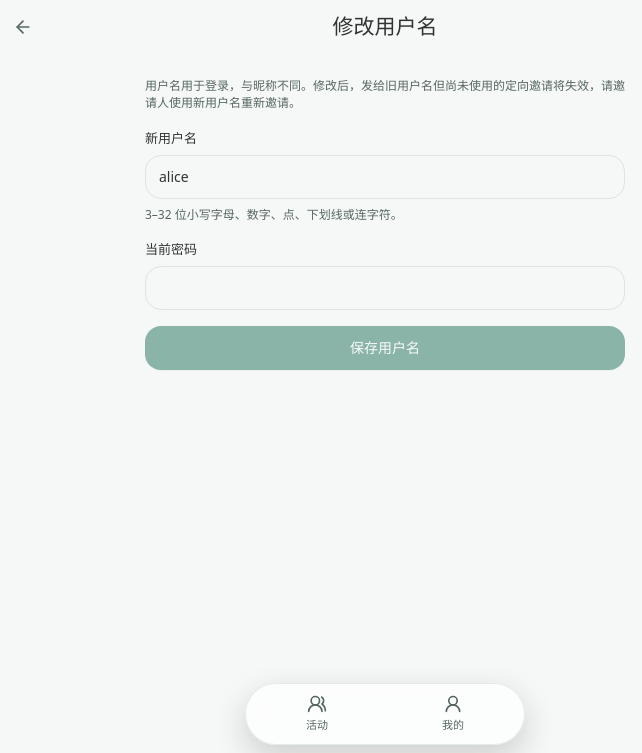
Scenario: 修改用户名 › 预填用户名并阻止无变化及非法输入
The width and height of the screenshot is (642, 753).
Expected: the button "保存用户名" is disabled, [145,326,625,370]
Replace the text in the field labelled "新用户名" with "a!" at (385, 177), box [145,155,625,199]
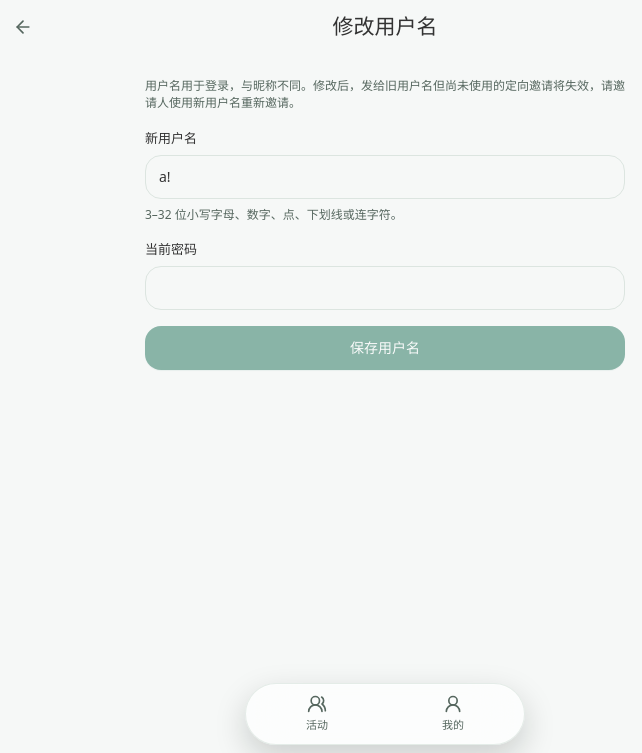
Leave the field labelled "新用户名", box [145,155,625,199]
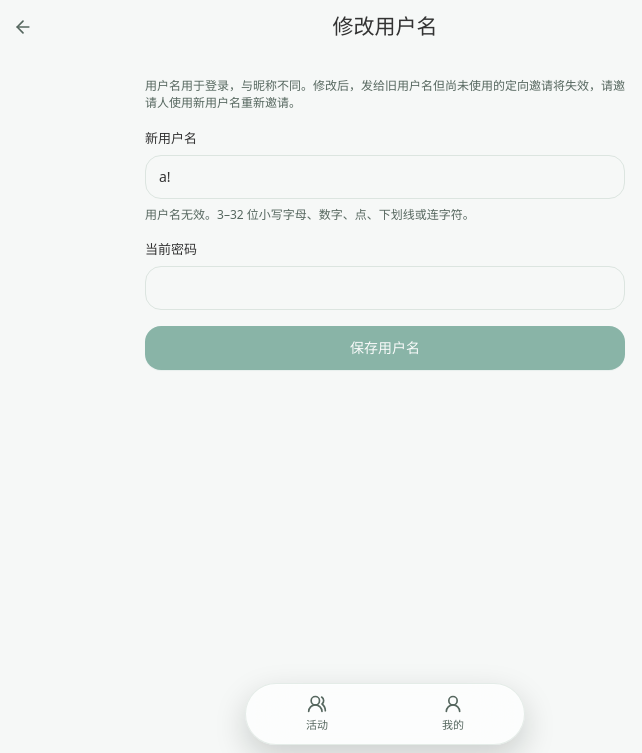
Expected: the message shows "用户名无效", [145,206,217,223]
